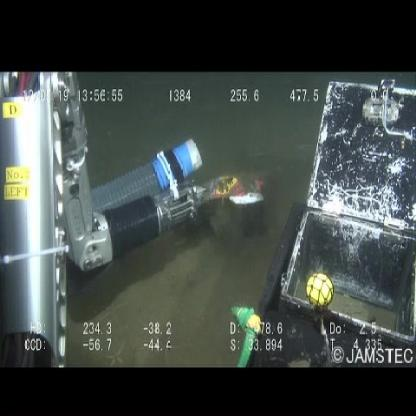Rov: (1, 74, 215, 366), (268, 73, 416, 367)
Rác: (204, 167, 267, 212)
